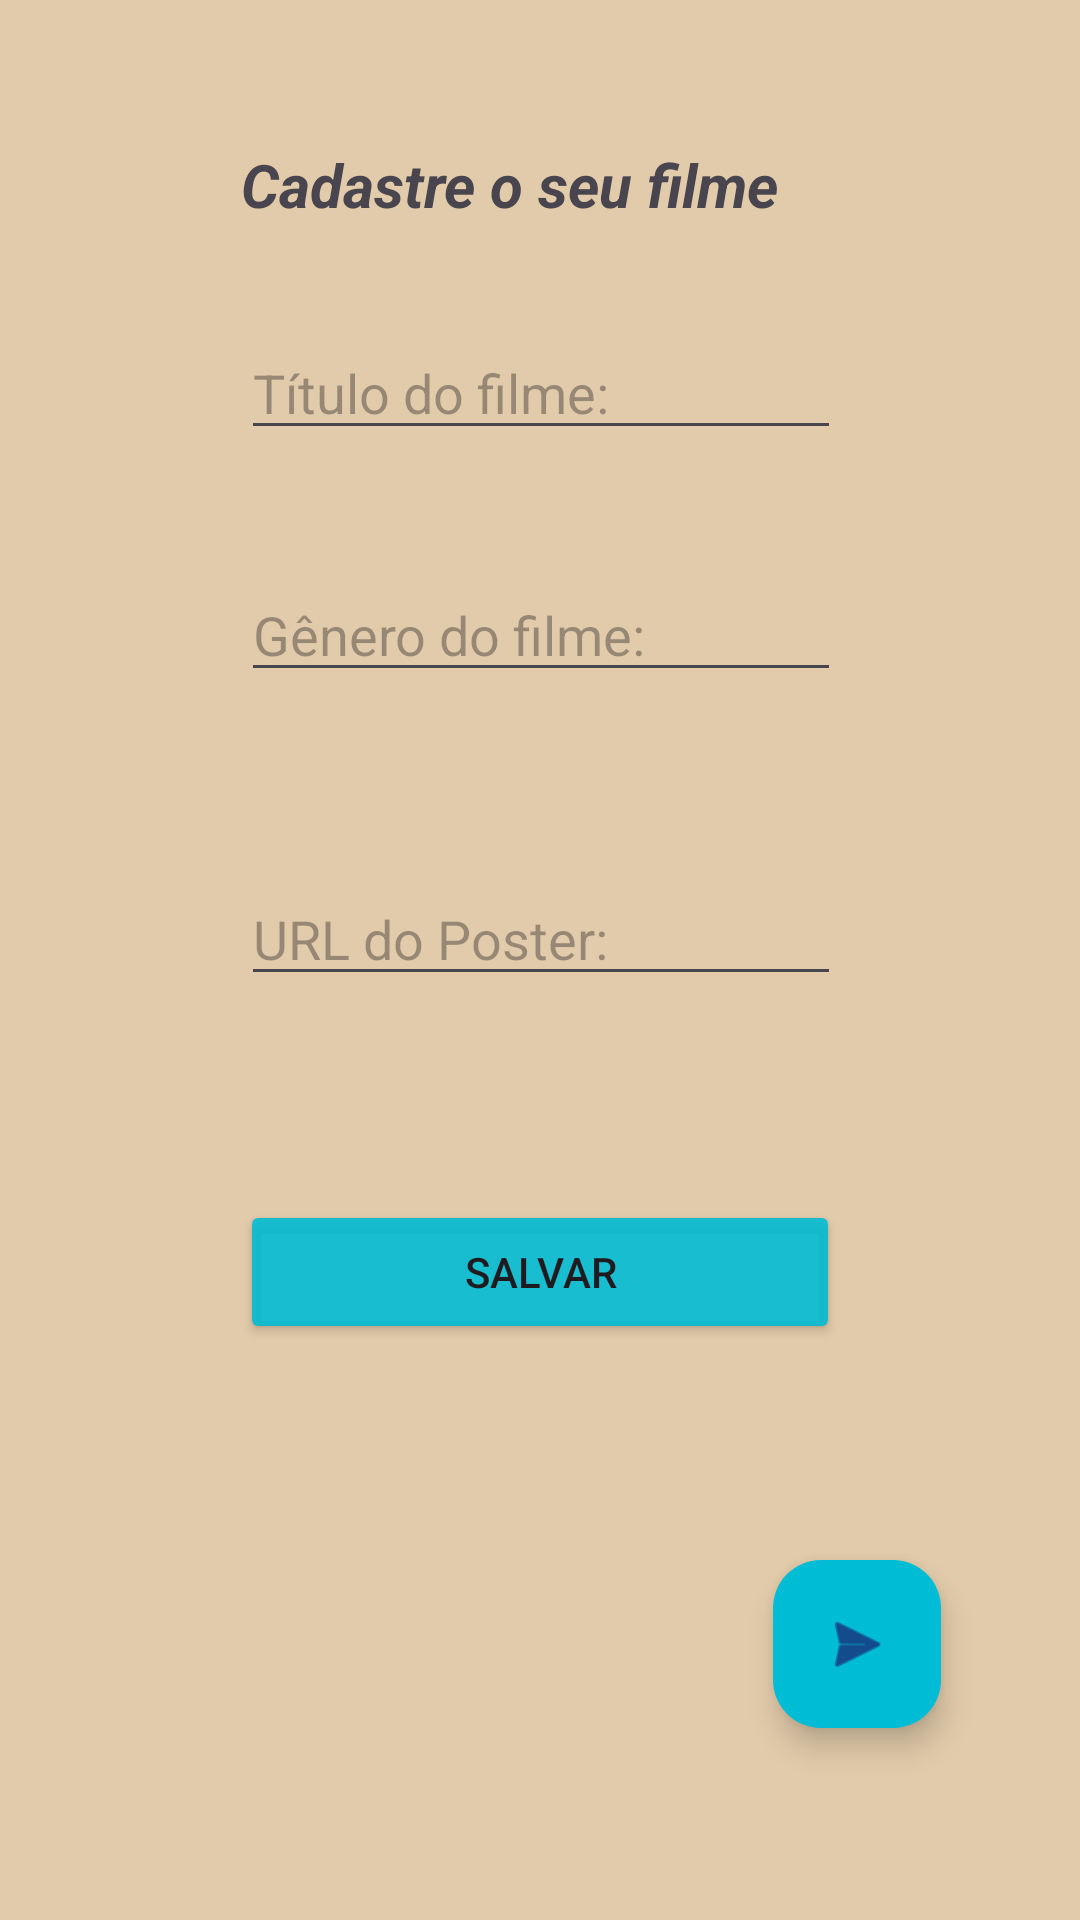

Icons on this 1080px×1920px Android screen, each with the point to tap as point (x, y):
send: point (857, 1644)
